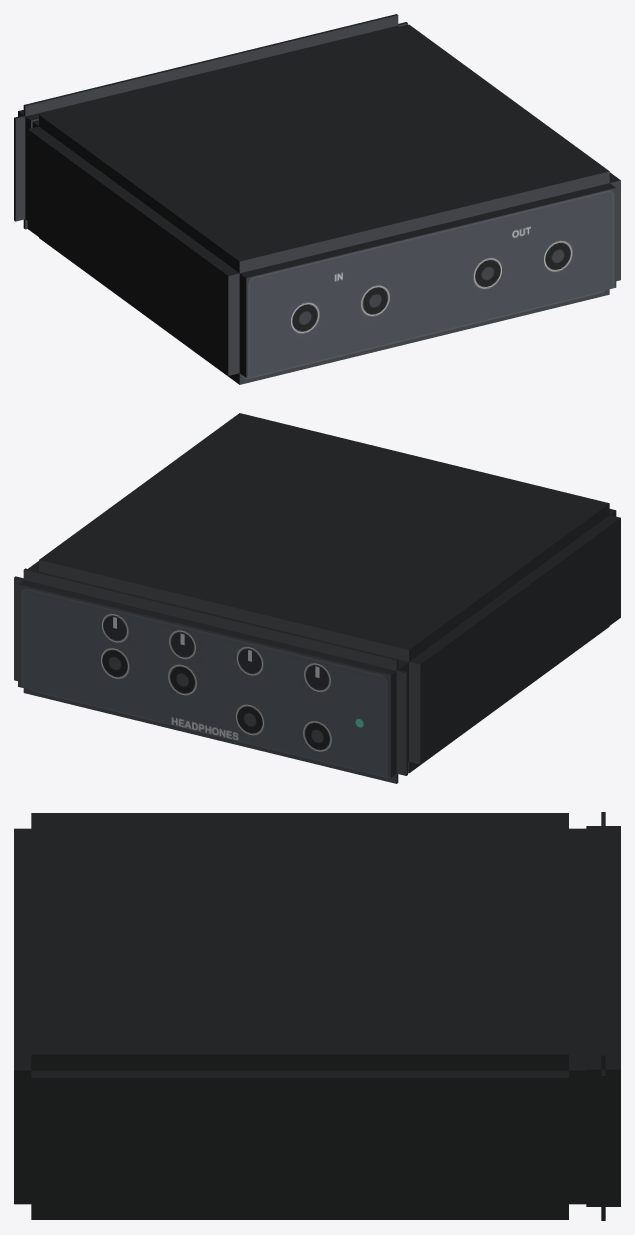
The model's file is presonus-hp4.glb.
3 renders of one model, top to bottom at view 1: azimuth 30°, elevation 25°; view 2: azimuth 150°, elevation 25°; view 3: azimuth 270°, elevation 25°, orthographic. The views are drawn at different scales.
Parts seen in each view (by area): view 1: presonus-hp4-body; view 2: presonus-hp4-body; view 3: presonus-hp4-body.
Part boxes in pixels (x1=…): presonus-hp4-body: x1=14, y1=14, x2=620, y2=384; presonus-hp4-body: x1=14, y1=413, x2=620, y2=783; presonus-hp4-body: x1=14, y1=812, x2=620, y2=1220.
Size of the model in its own units: 0.1397 by 0.0445 by 0.1397.
Materials: 1 (1 with a texture image).
